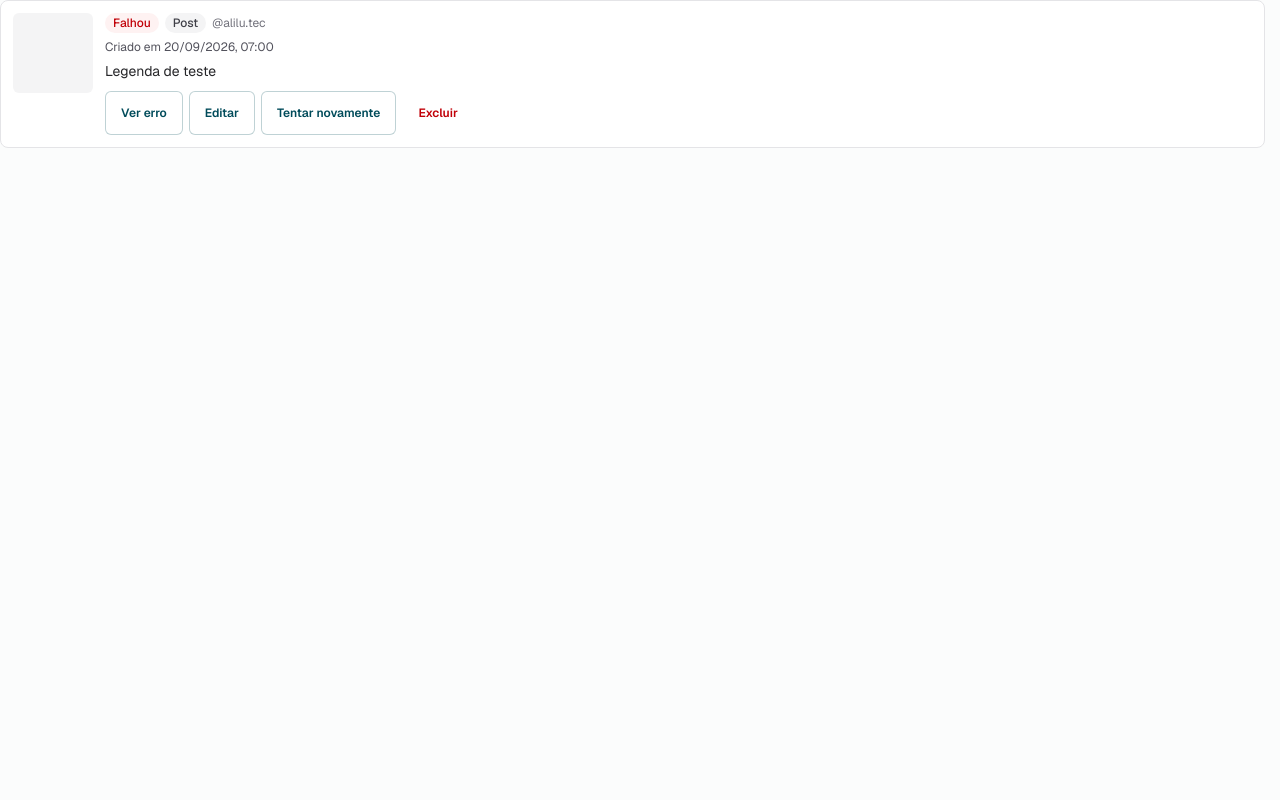
it: CalendarPostCard › FAILED: Ver erro mostra a mensagem sanitizada e há Tentar novamente
Expected: the button "Tentar novamente" is shown, x1=261 y1=91 x2=396 y2=135
Expected: the button "Editar" is shown, x1=189 y1=91 x2=255 y2=135
Click the button "Ver erro" at (144, 113), box x1=105 y1=91 x2=183 y2=135
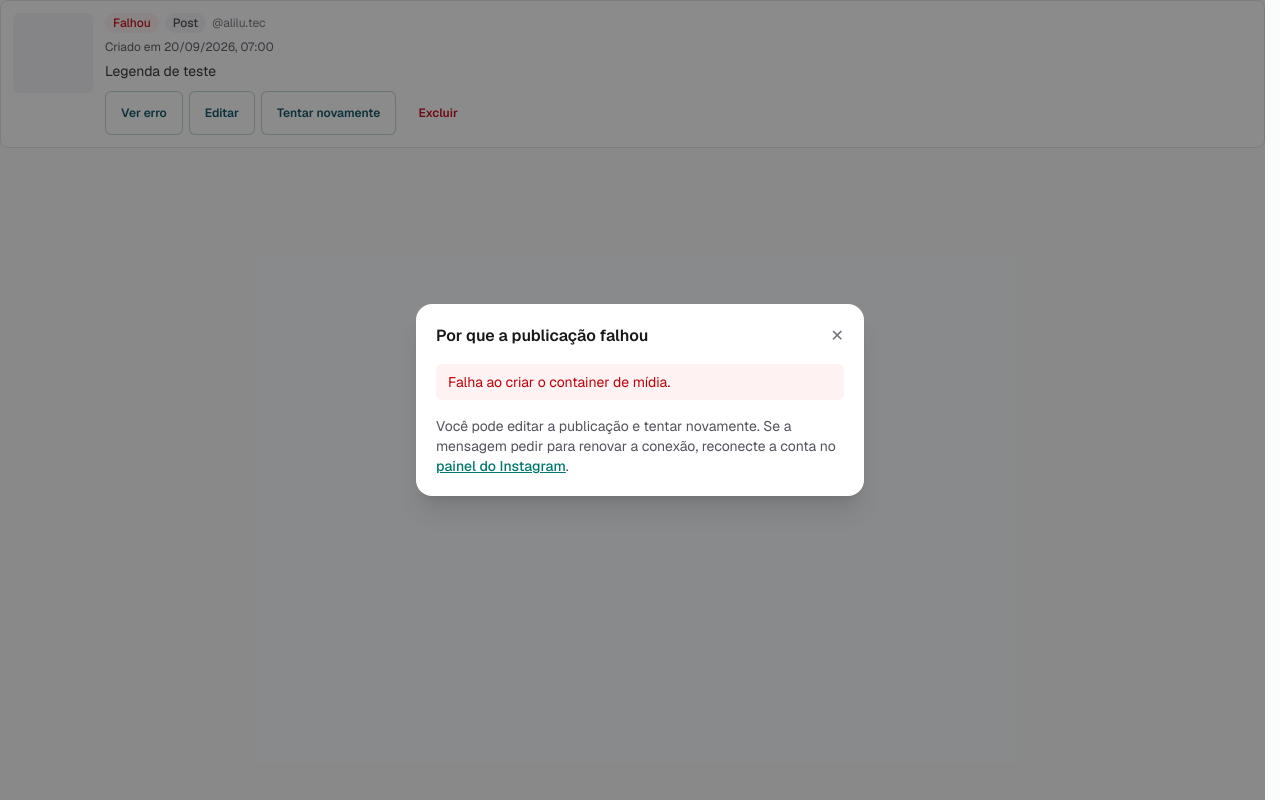
Now the text "Falha ao criar o container de mídia." is shown, box x1=436 y1=364 x2=844 y2=400
